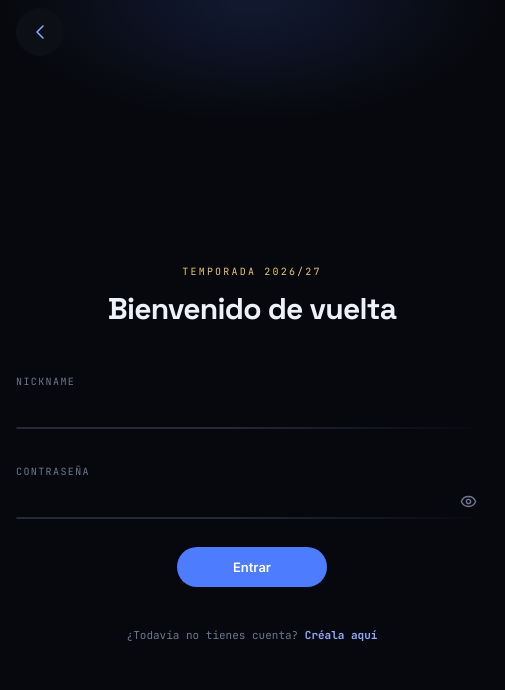
it: la aplicación › avisa cuando la contraseña no es correcta
Type "lucia" into the field labelled "Nickname".
click(252, 411); type("lucia")  # box [16,395,488,427]
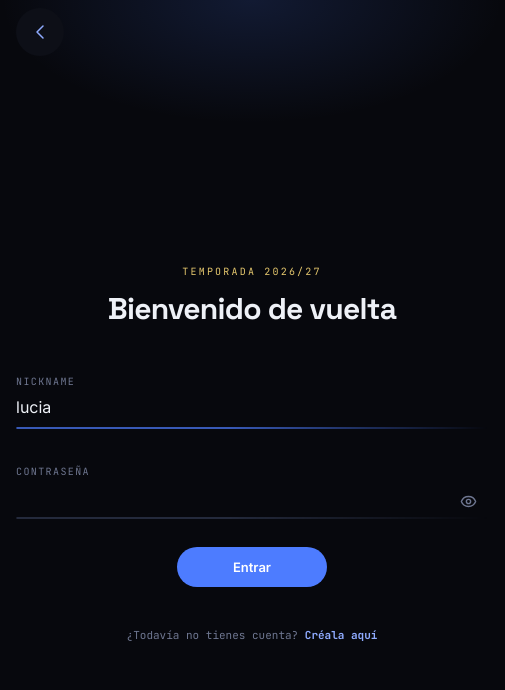
Type "no-es-esta" into the password field labelled "Contraseña".
click(252, 501); type("no-es-esta")  # box [16,485,488,517]
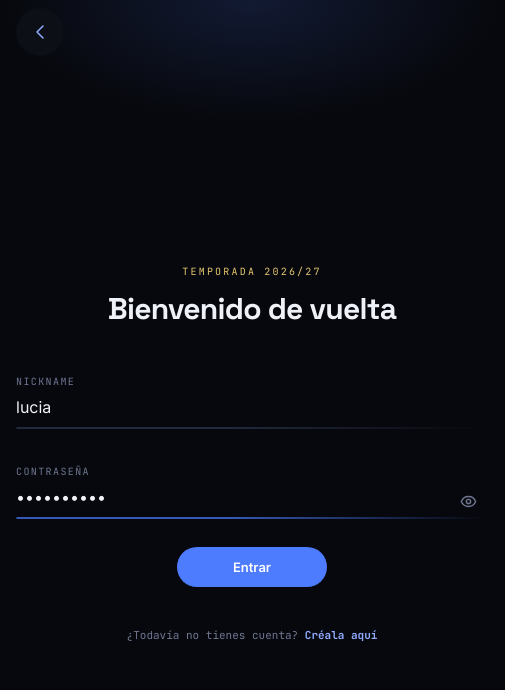
Click the button "Entrar".
click(252, 567)  # box [177,547,327,587]
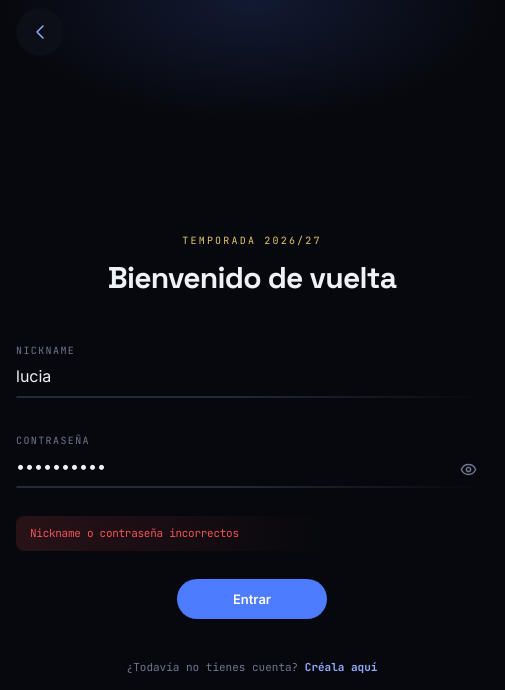
Now the text "Nickname o contraseña incorrectos" is shown, box [16,516,488,551]
